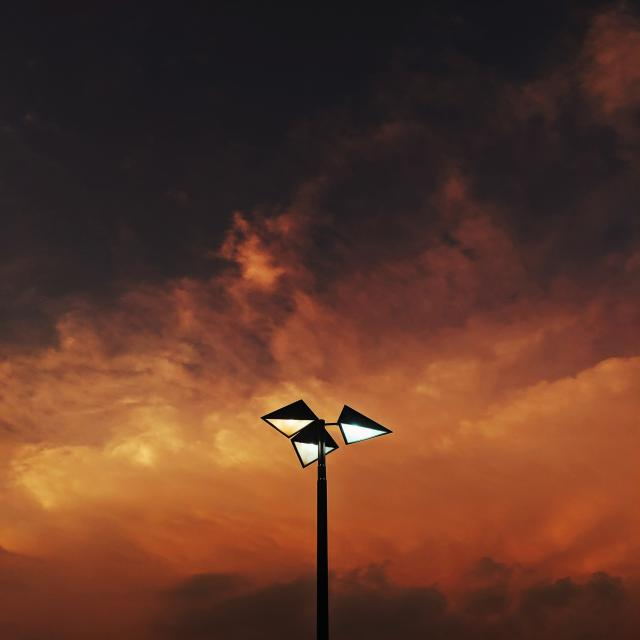Street Light: (260, 398, 391, 637)
